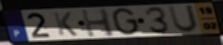2: (26, 12, 52, 39)
3: (144, 6, 171, 35)
G: (111, 7, 141, 36)
H: (79, 8, 118, 39)
K: (51, 11, 79, 37)
U: (167, 4, 200, 34)
